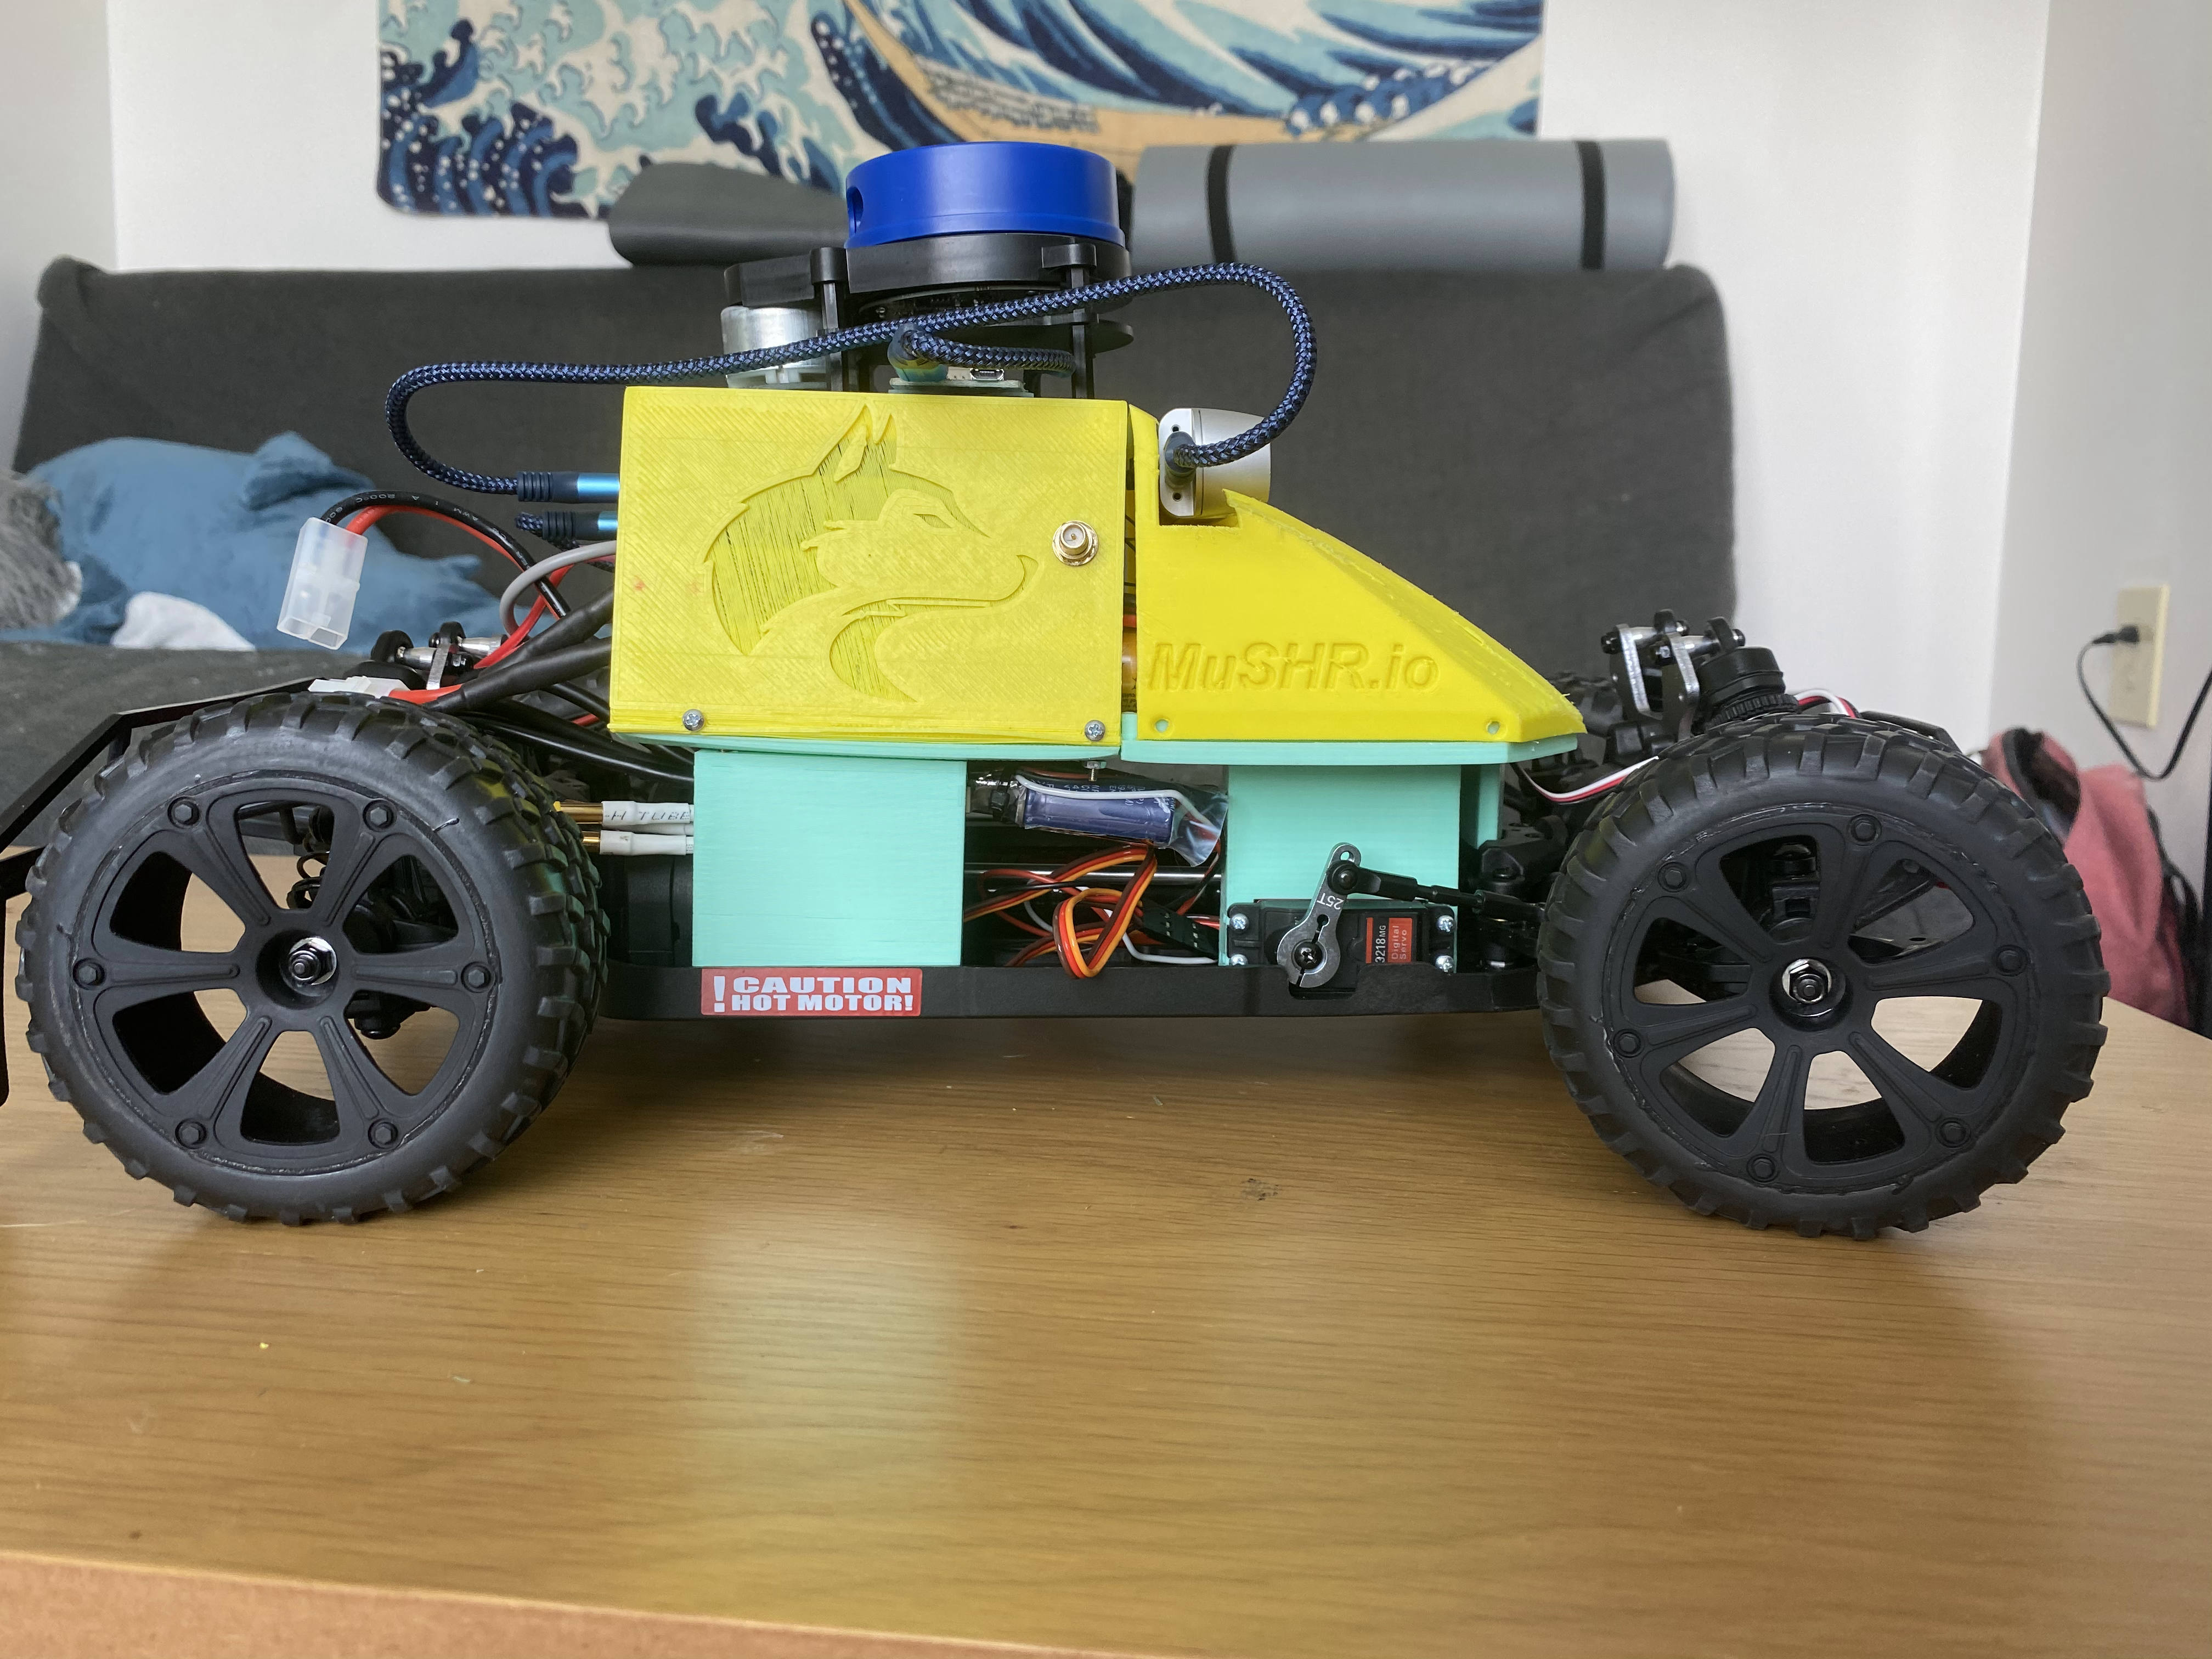mushr_car: (9, 129, 2118, 1265)
